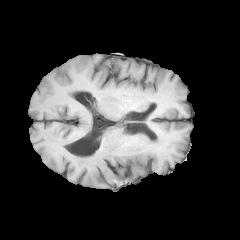glioma: (72, 122, 167, 178)
